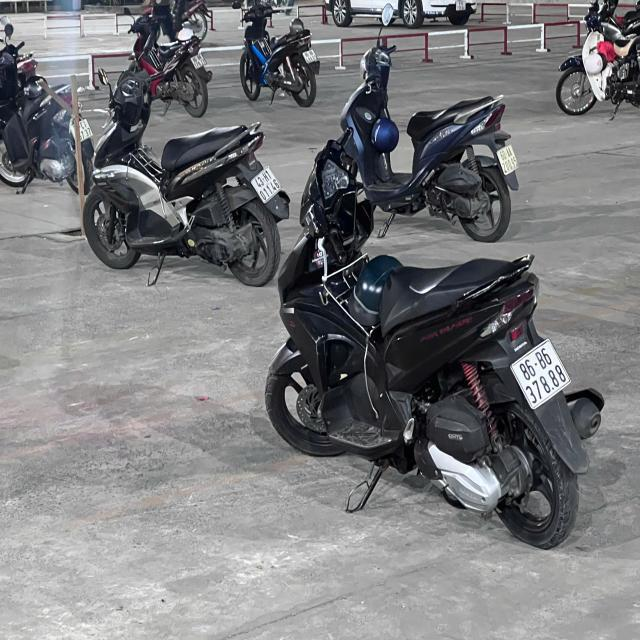car: (321, 0, 478, 29)
motorcycle: (259, 138, 605, 553), (82, 64, 286, 289), (334, 42, 522, 246), (0, 33, 94, 202), (553, 1, 639, 119), (120, 8, 211, 119), (230, 0, 320, 108)
plate: (507, 338, 573, 410), (250, 167, 282, 202), (493, 144, 521, 178), (69, 120, 93, 140), (299, 49, 321, 66), (190, 54, 209, 70)
